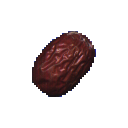gd: (15, 18, 128, 122)
